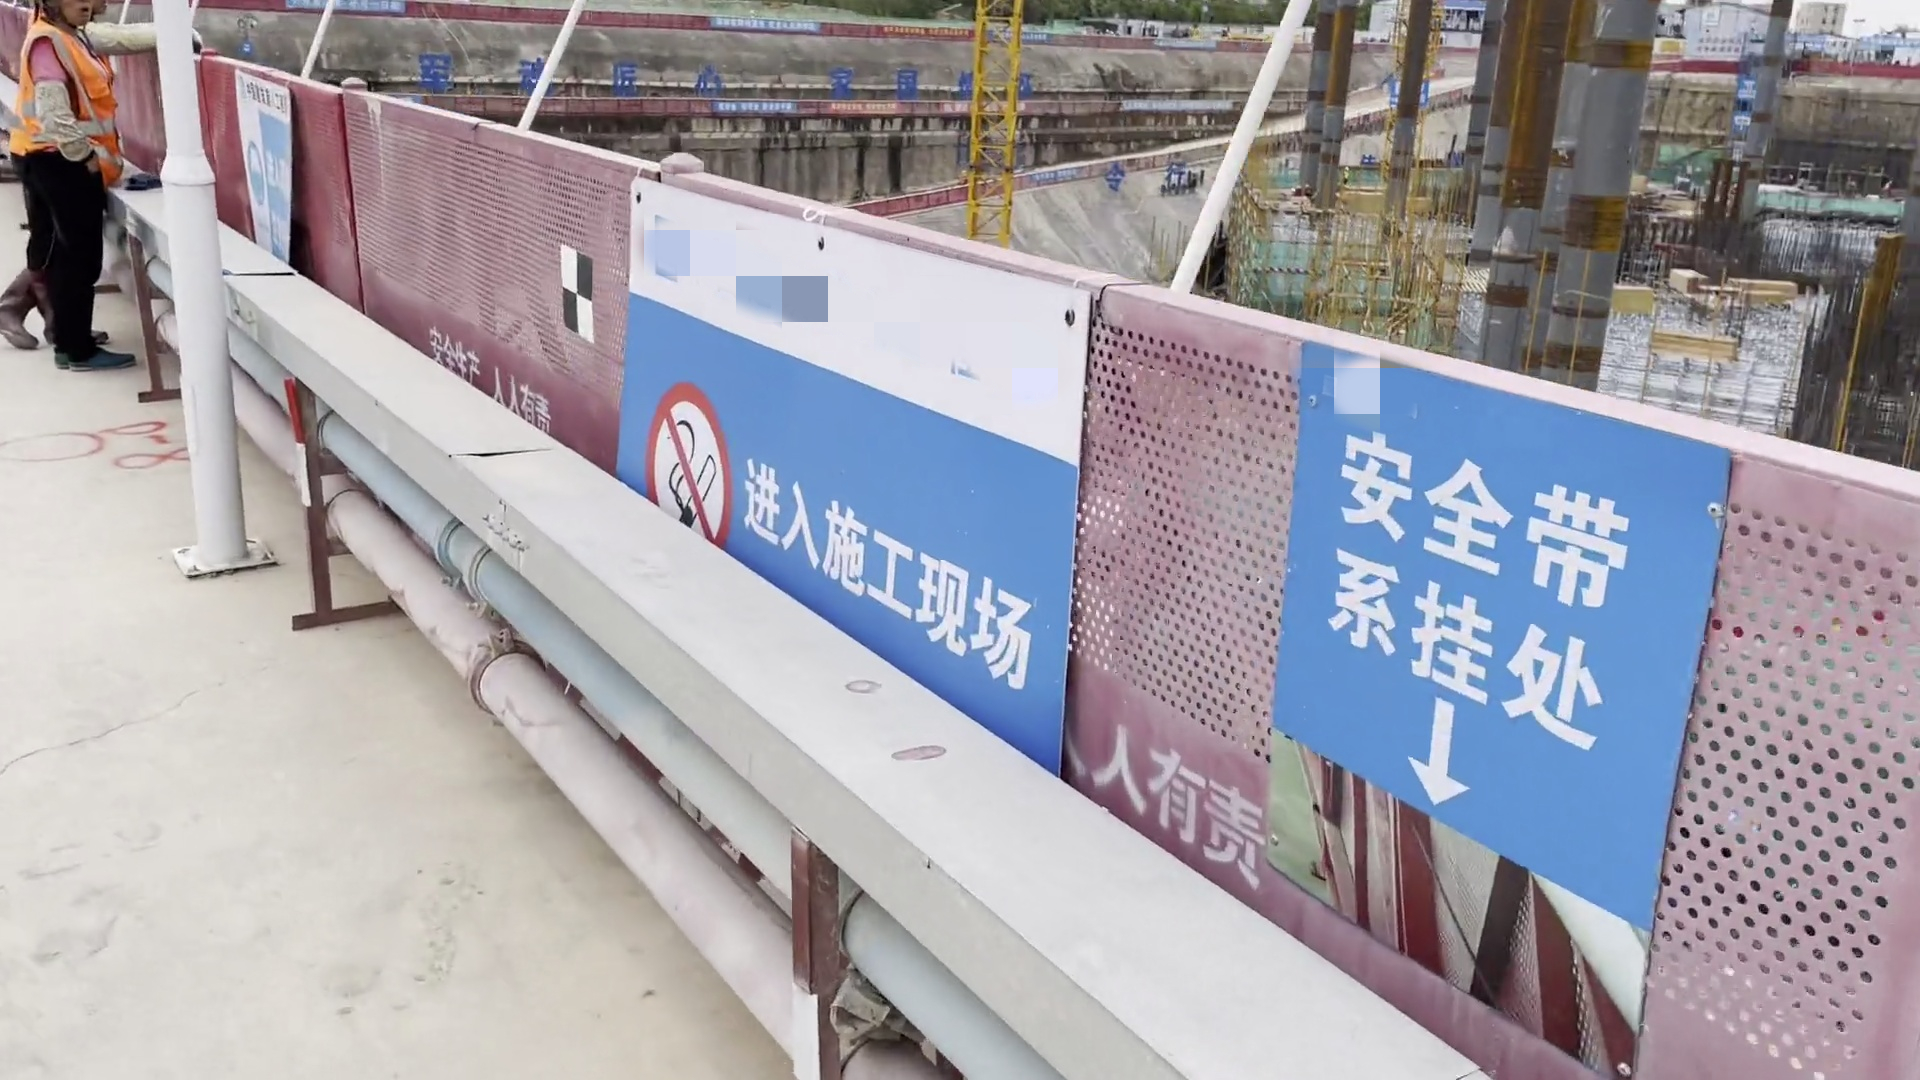fence: (1229, 338, 1920, 1080), (640, 166, 1241, 919), (342, 82, 690, 512), (184, 53, 373, 332)
person: (5, 3, 148, 381)
slogan: (1227, 330, 1752, 1080), (579, 165, 1150, 820), (217, 57, 340, 308), (704, 12, 827, 50), (1727, 62, 1760, 188), (869, 15, 976, 51), (708, 95, 803, 134), (822, 92, 908, 132), (1375, 69, 1431, 124), (983, 20, 1058, 57)
vest: (7, 12, 128, 181)
wood: (1649, 324, 1744, 365), (1662, 263, 1709, 297)
